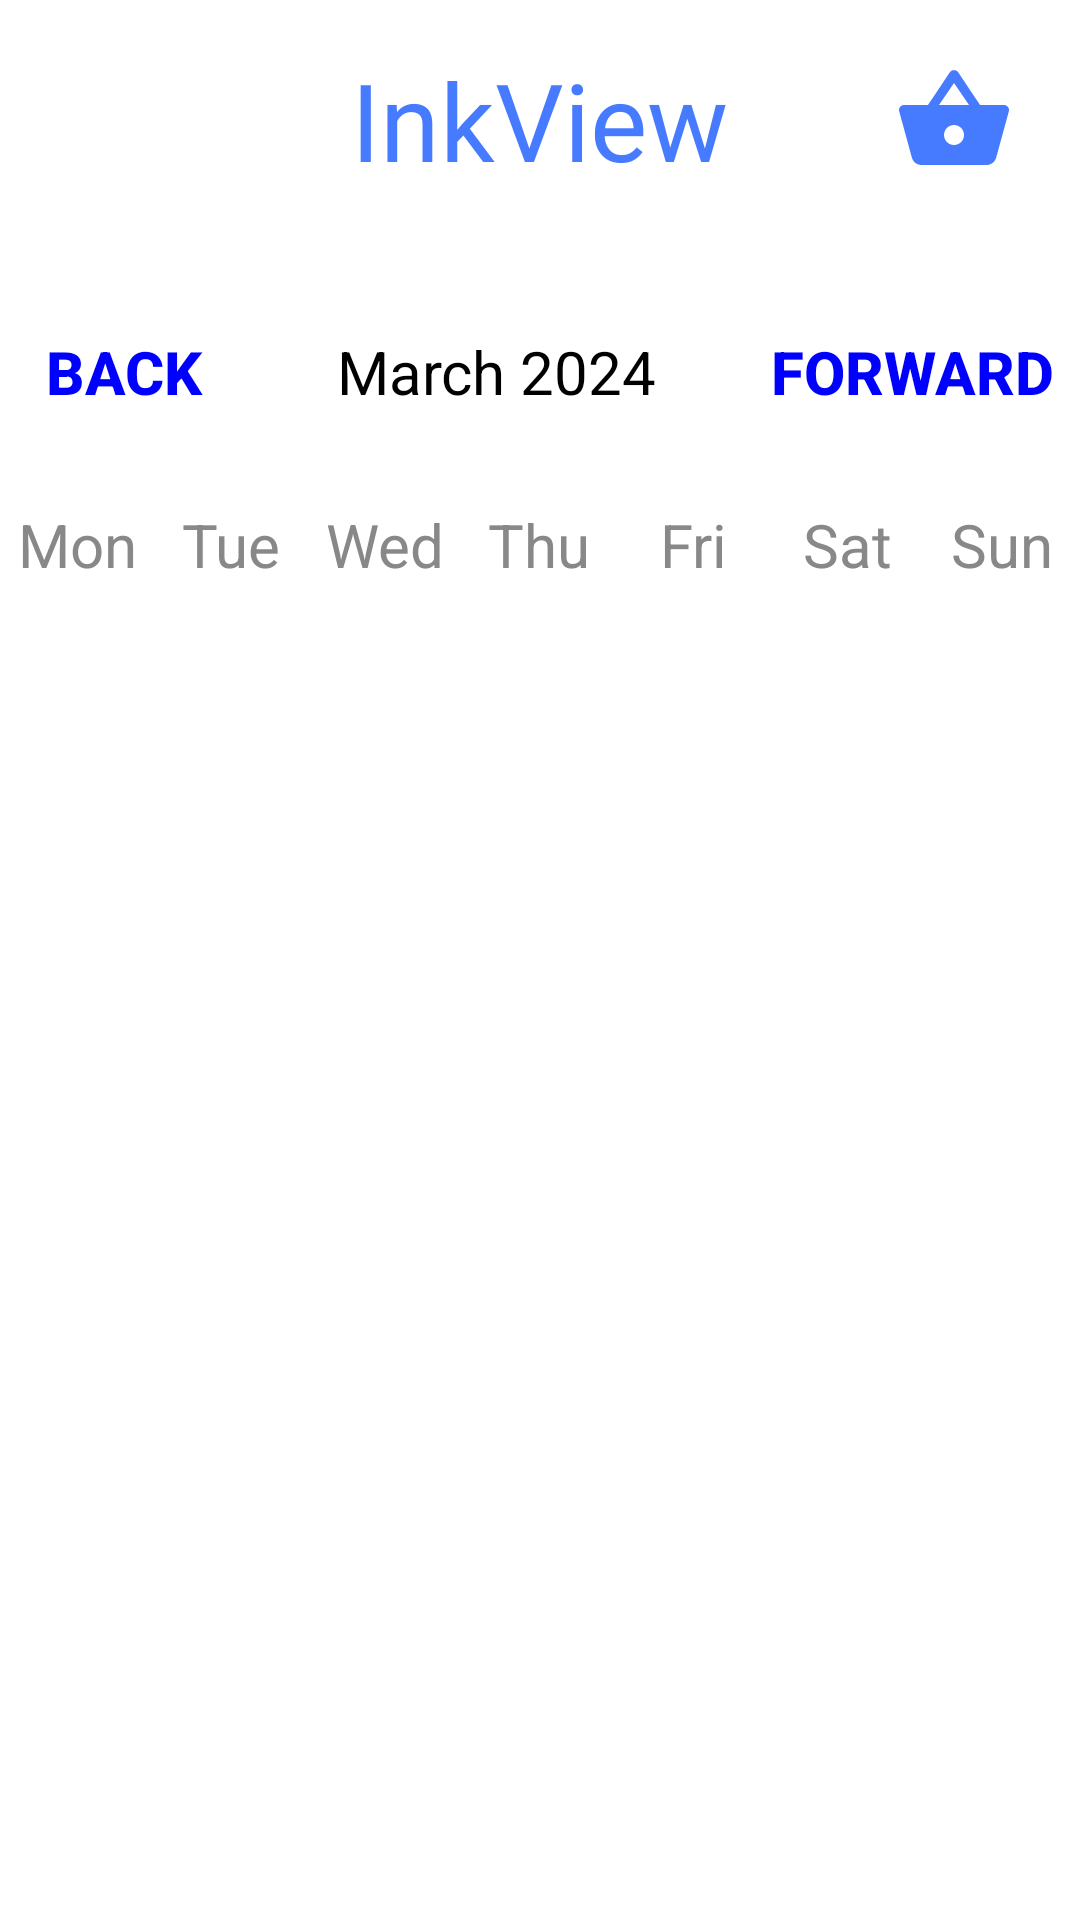

Icons on this 1080 × 1920 Android screen, each with the point to tap as (x=x, y=y):
Basket: (x=954, y=117)
